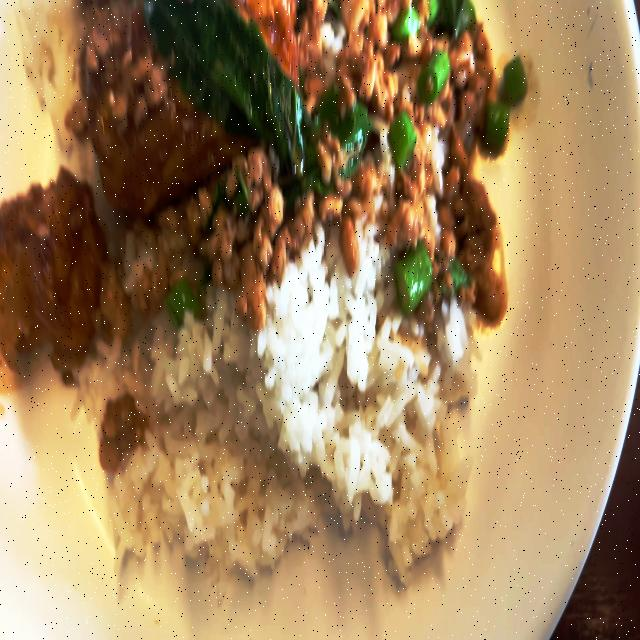fried_tofo: (87, 0, 301, 153), (0, 178, 99, 348)
minced_pork: (306, 0, 515, 305), (123, 156, 321, 313)
rice: (136, 246, 463, 563)
stir_fried_basil: (0, 0, 522, 582)
